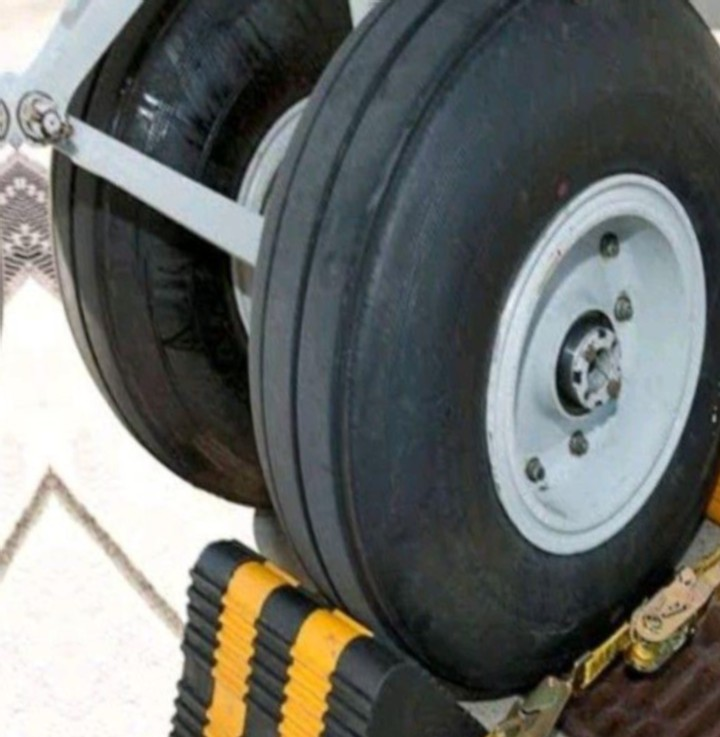chock: (143, 516, 521, 737), (650, 291, 720, 569)
wheel: (220, 0, 720, 699), (32, 0, 387, 511)
